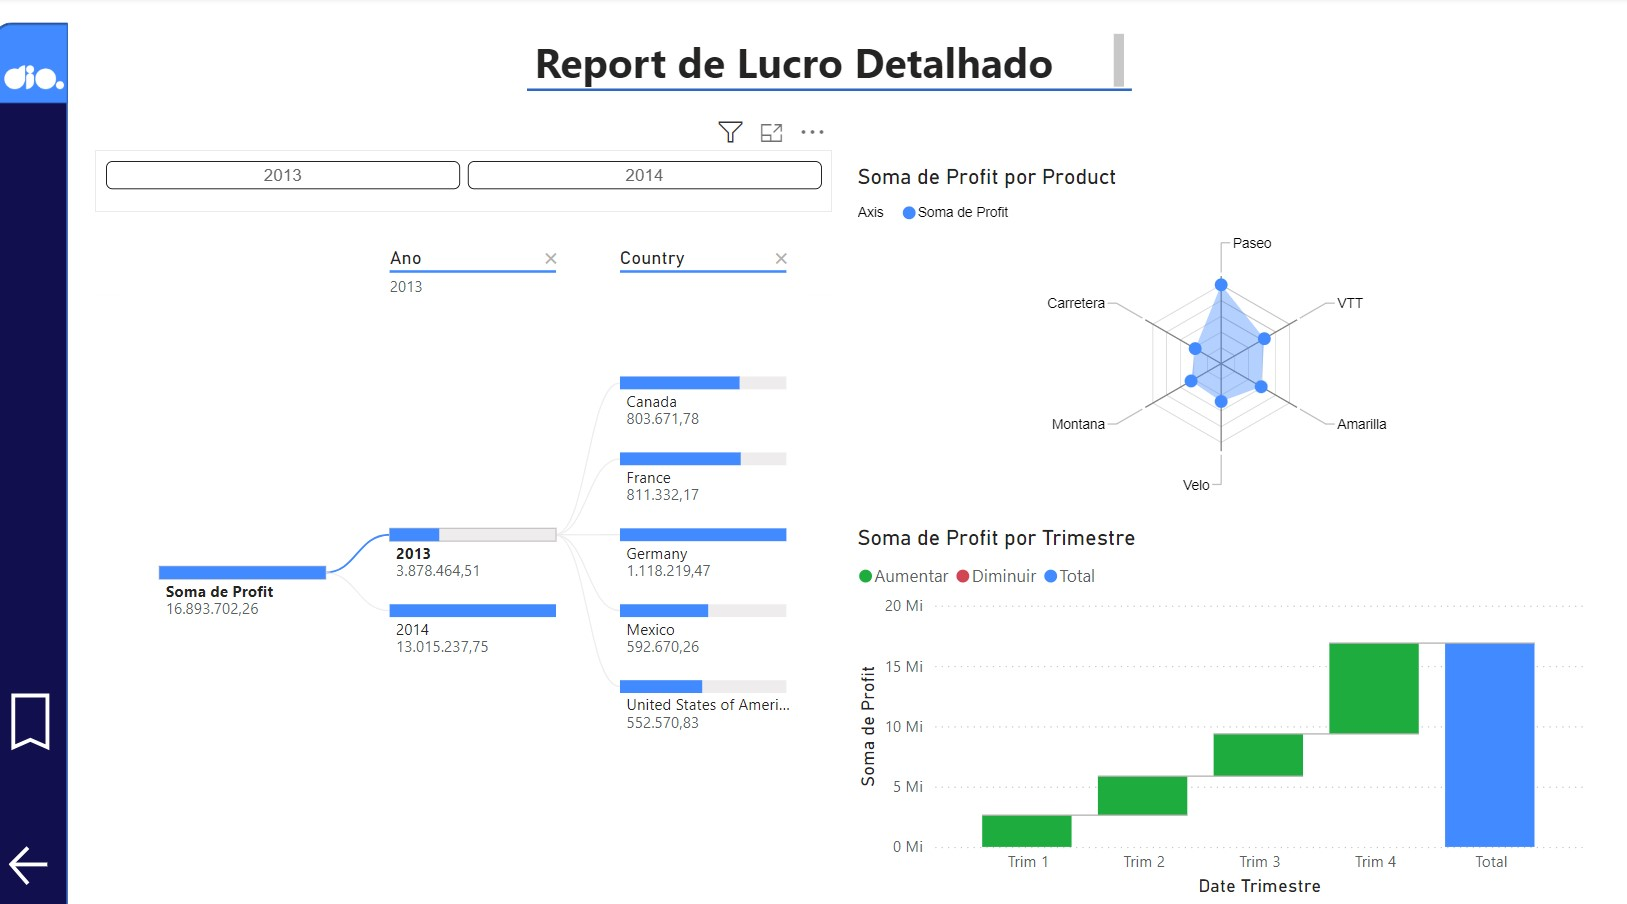

Layout of this report page (visuals, bound fields, positions):
{"tool":"powerbi","page":{"name":"Profit","canvas":[1280,720],"ordinal":1},"visuals":[{"type":"shape","box":[0,20.1,58.3,700],"z":0},{"type":"shape","box":[417.3,53.5,473,37.1],"z":0,"group":"g1"},{"type":"shape","box":[0,21.1,58.6,62.1],"z":1000},{"type":"textbox","box":[418.7,23.3,470.2,52.2],"z":1000,"group":"g1"},{"type":"image","box":[3.2,43,57.3,39.2],"z":2000},{"type":"shape","box":[79.7,233.7,576.1,473],"z":5000},{"type":"decompositionTreeVisual","fields":{"Analyze":["Sum(financials.Profit)"],"ExplainBy":["financials.Date.Variation.Hierarquia de datas.Ano","financials.Country"]},"box":[99.6,178.2,536.8,520.4],"z":6000},{"type":"waterfallChart","fields":{"Category":["financials.Date.Variation.Hierarquia de datas.Trimestre"],"Y":["Sum(financials.Profit)"]},"box":[670.9,412.5,577.4,294.2],"z":7000},{"type":"ChicletSlicer1448559807354","fields":{"Category":["financials.Date.Variation.Hierarquia de datas.Ano"]},"box":[79.7,119.6,575.5,48.1],"z":8000},{"type":"group","id":"g1","title":"Sales report","box":[417.3,23.3,473,67.4],"z":10000},{"type":"actionButton","box":[1,513.9,56.3,105.6],"z":11000},{"type":"actionButton","box":[8,658.8,45.3,40.2],"z":12000},{"type":"RadarChart1446119667547","fields":{"Category":["financials.Product"],"Y":["Sum(financials.Profit)"]},"box":[670.5,130.1,577.9,266.1],"z":13000}]}

Visuals, with their boxes on the page's 1280x720 design canvas (x1, y1, x2, y2). These are canvas units, not pixel positions in the 1627x904 screenshot, which may show the page scaled, cropped or inside an application window:
shape: {"x1": 0, "y1": 20, "x2": 58, "y2": 720}
shape: {"x1": 417, "y1": 54, "x2": 890, "y2": 91}
shape: {"x1": 0, "y1": 21, "x2": 59, "y2": 83}
textbox: {"x1": 419, "y1": 23, "x2": 889, "y2": 76}
image: {"x1": 3, "y1": 43, "x2": 60, "y2": 82}
shape: {"x1": 80, "y1": 234, "x2": 656, "y2": 707}
decompositionTreeVisual - Sum(financials.Profit) x financials.Date.Variation.Hierarquia de datas.Ano: {"x1": 100, "y1": 178, "x2": 636, "y2": 699}
waterfallChart - financials.Date.Variation.Hierarquia de datas.Trimestre x Sum(financials.Profit): {"x1": 671, "y1": 412, "x2": 1248, "y2": 707}
ChicletSlicer1448559807354 - financials.Date.Variation.Hierarquia de datas.Ano: {"x1": 80, "y1": 120, "x2": 655, "y2": 168}
"Sales report" group: {"x1": 417, "y1": 23, "x2": 890, "y2": 91}
actionButton: {"x1": 1, "y1": 514, "x2": 57, "y2": 620}
actionButton: {"x1": 8, "y1": 659, "x2": 53, "y2": 699}
RadarChart1446119667547 - financials.Product x Sum(financials.Profit): {"x1": 670, "y1": 130, "x2": 1248, "y2": 396}
